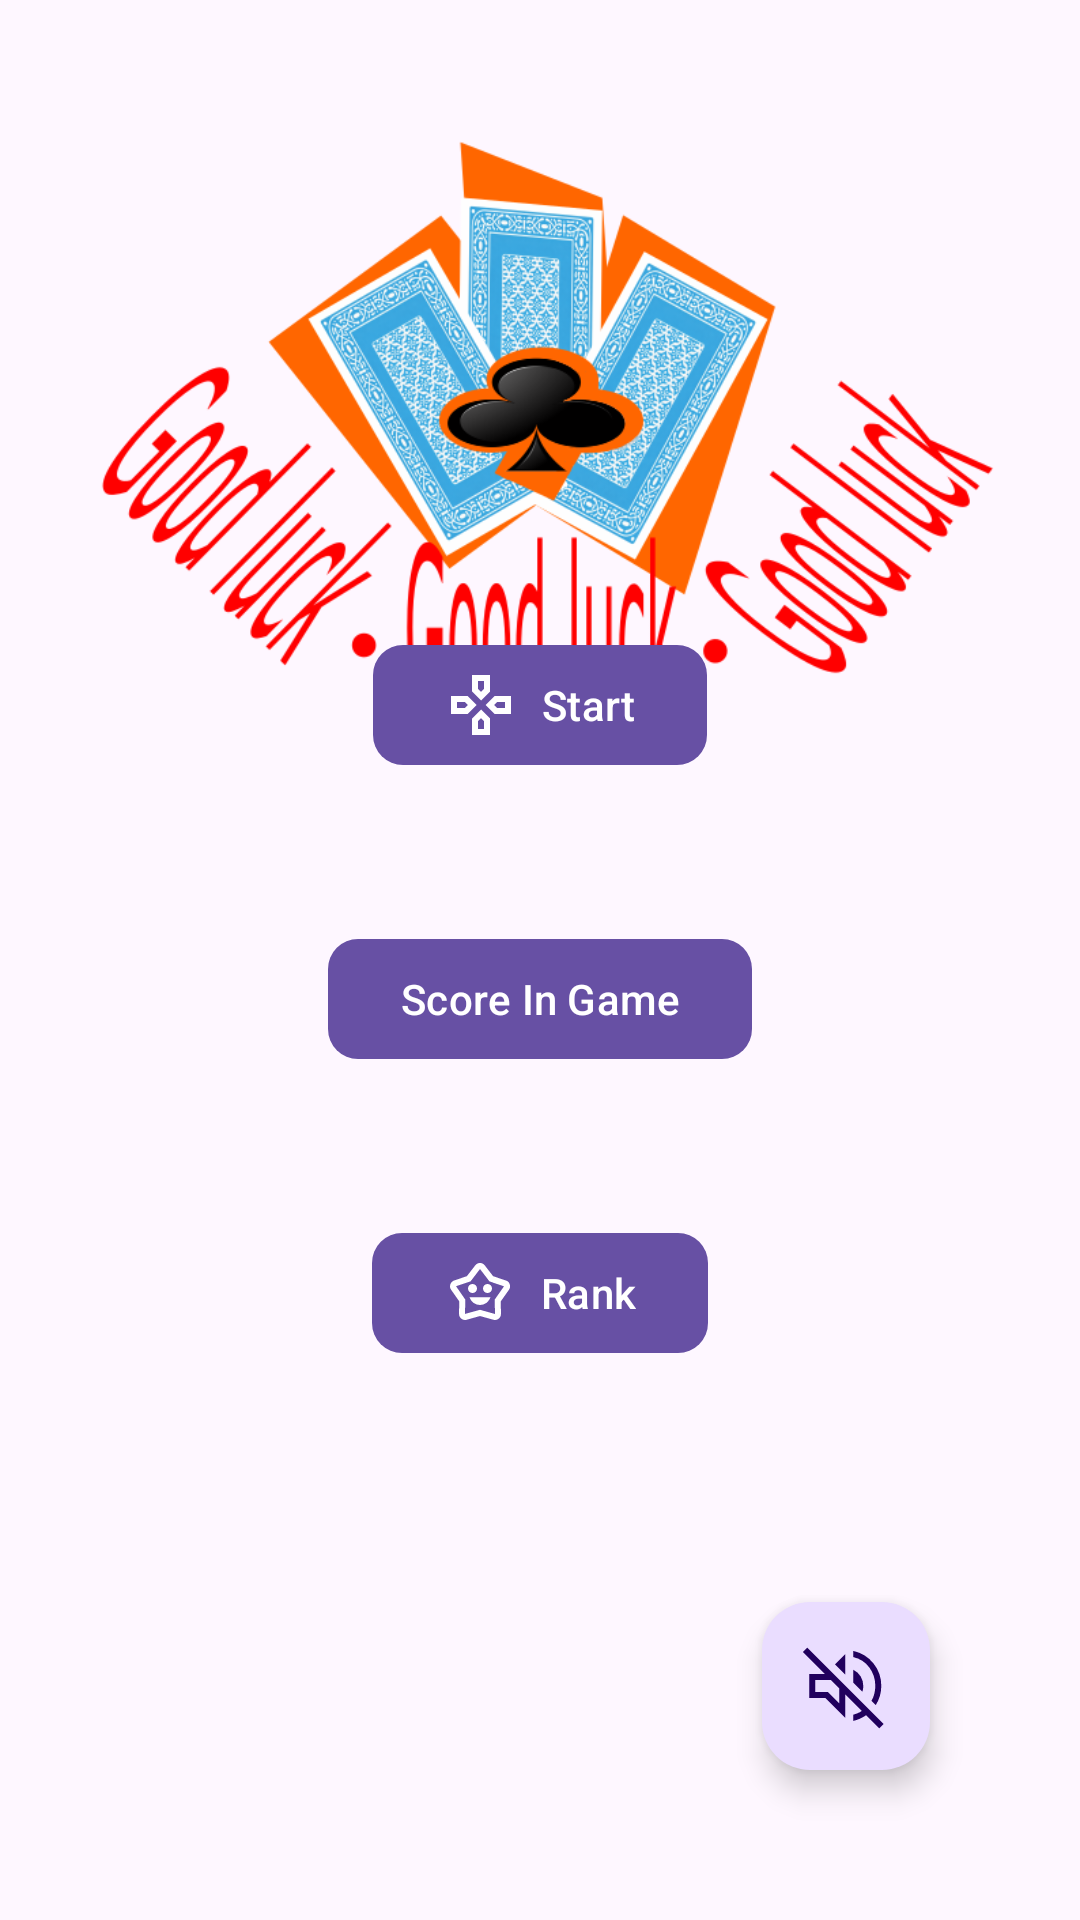

Icon bounding boxes for this 1080 x 1920 phone screenshot, format (x1, y1, x2, y2):
audionao: (762, 1602, 930, 1770)
